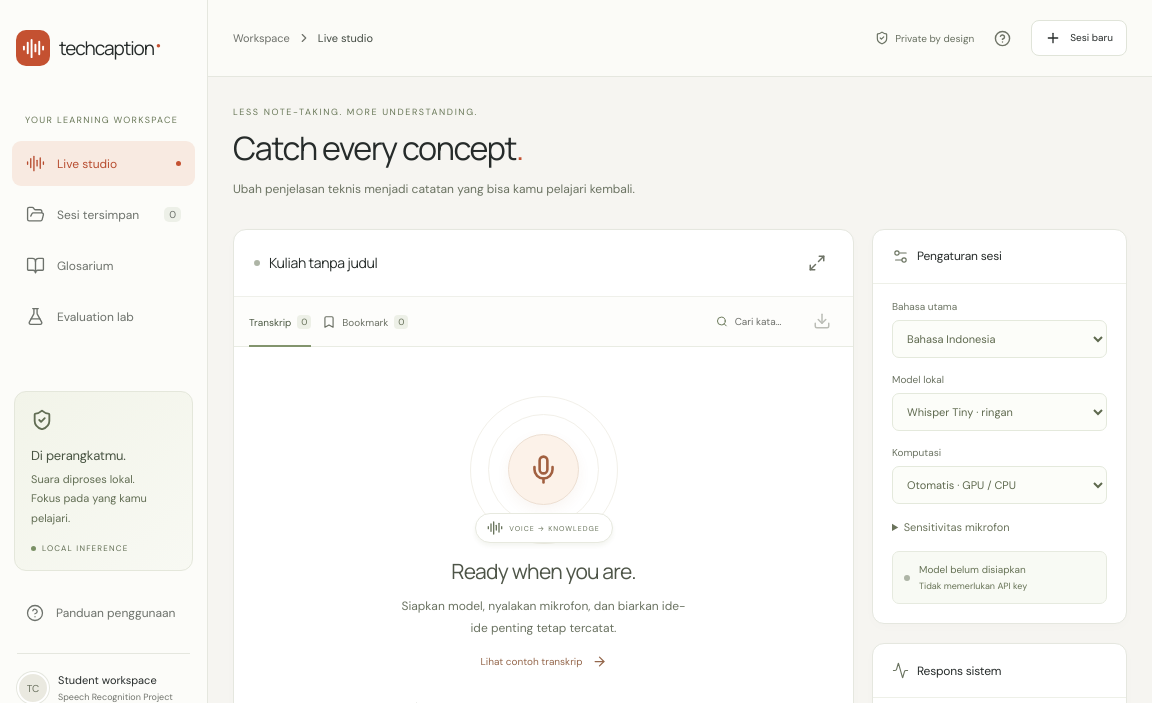
Test: student workflows (UI fixture, not real ASR) › adds a glossary entry and prevents duplicate terms
Click the button "Glosarium". click: (104, 266)
box: [12,243,195,288]
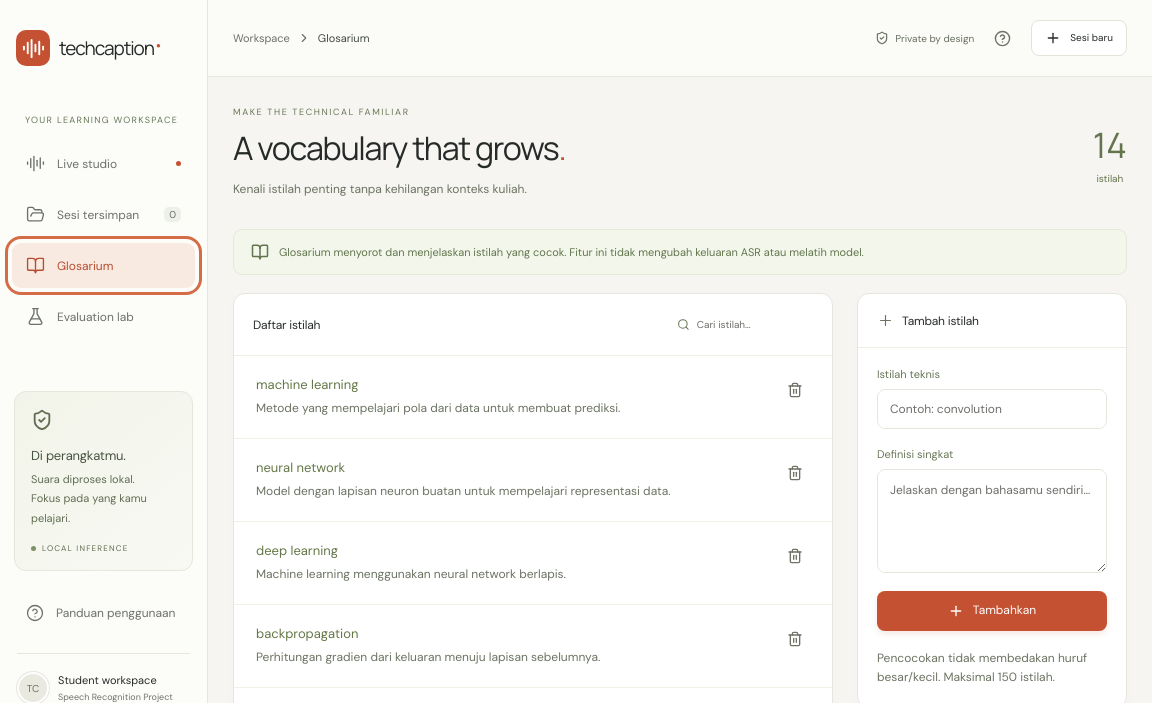
Type "vector database" into the field labelled "Istilah teknis". click: (992, 409)
box: [877,389,1107,429]
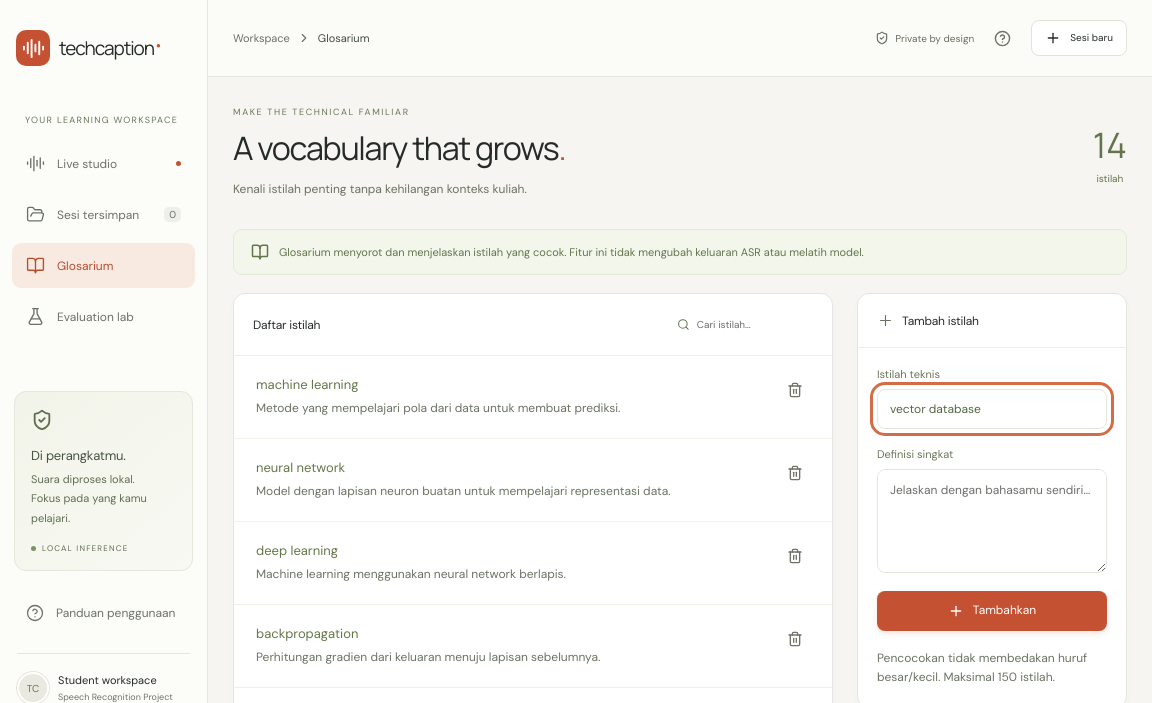
Type "Penyimpanan vektor" into the text box labelled "Definisi singkat". click: (992, 521)
box: [877,469,1107,573]
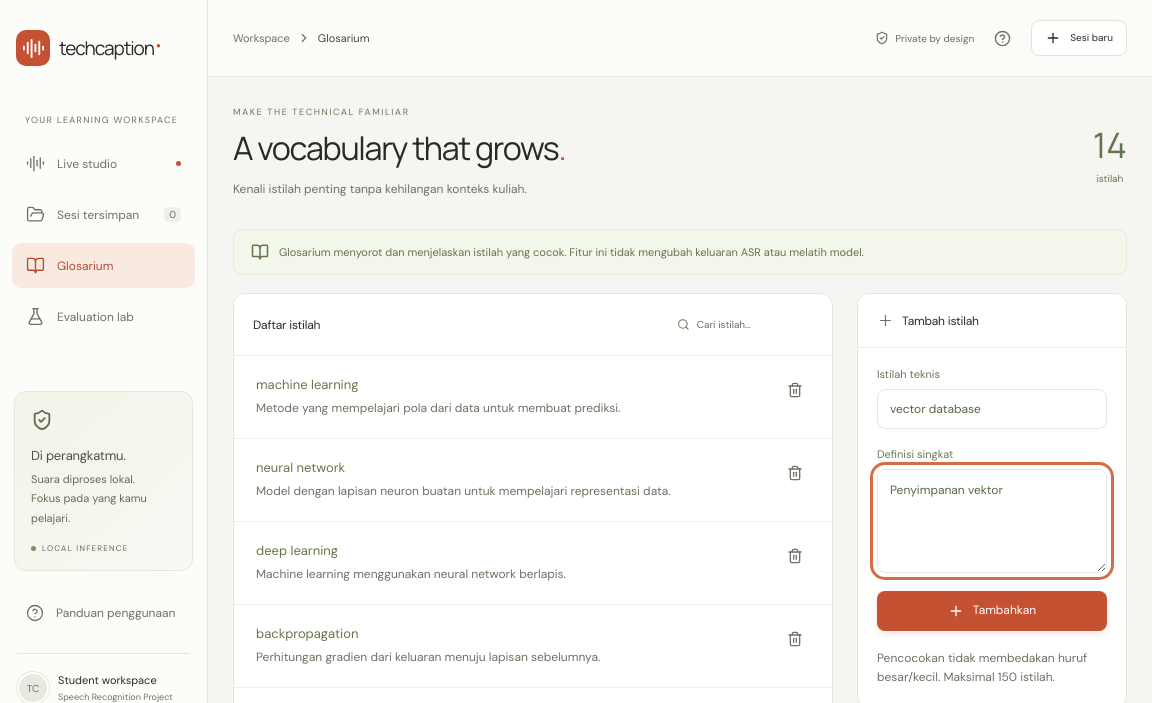
Click the button "Tambahkan". click: (992, 611)
box: [877,591,1107,631]
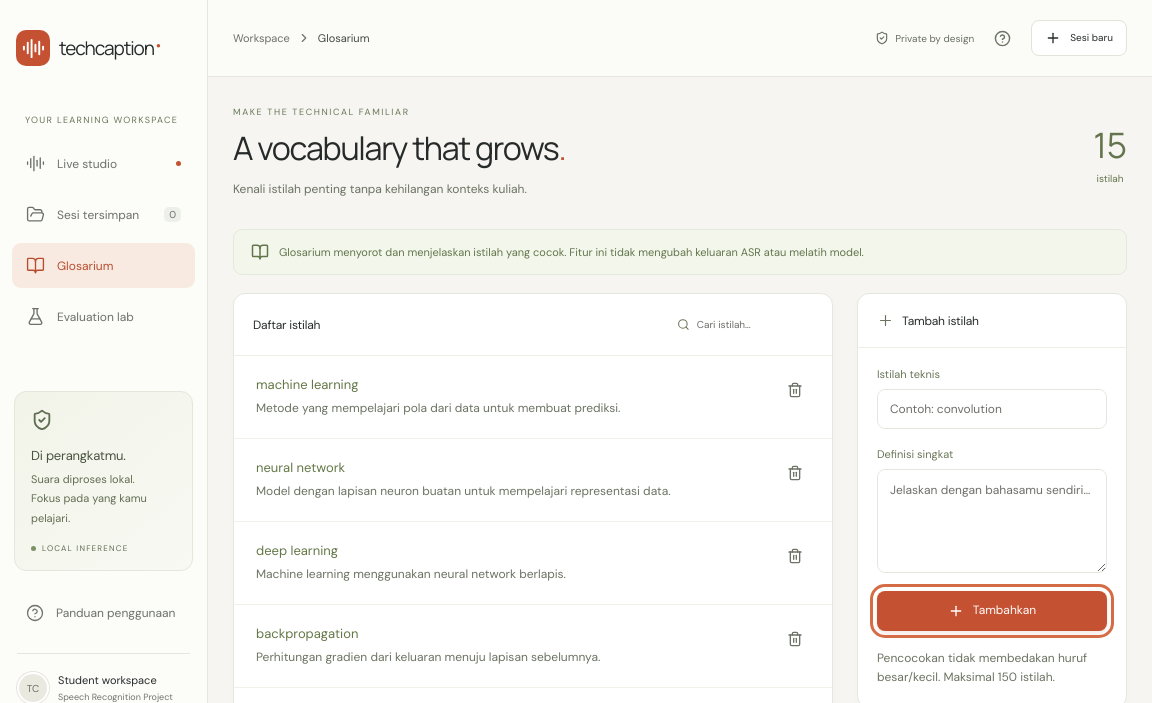
Type "VECTOR DATABASE" into the field labelled "Istilah teknis". click: (992, 409)
box: [877,389,1107,429]
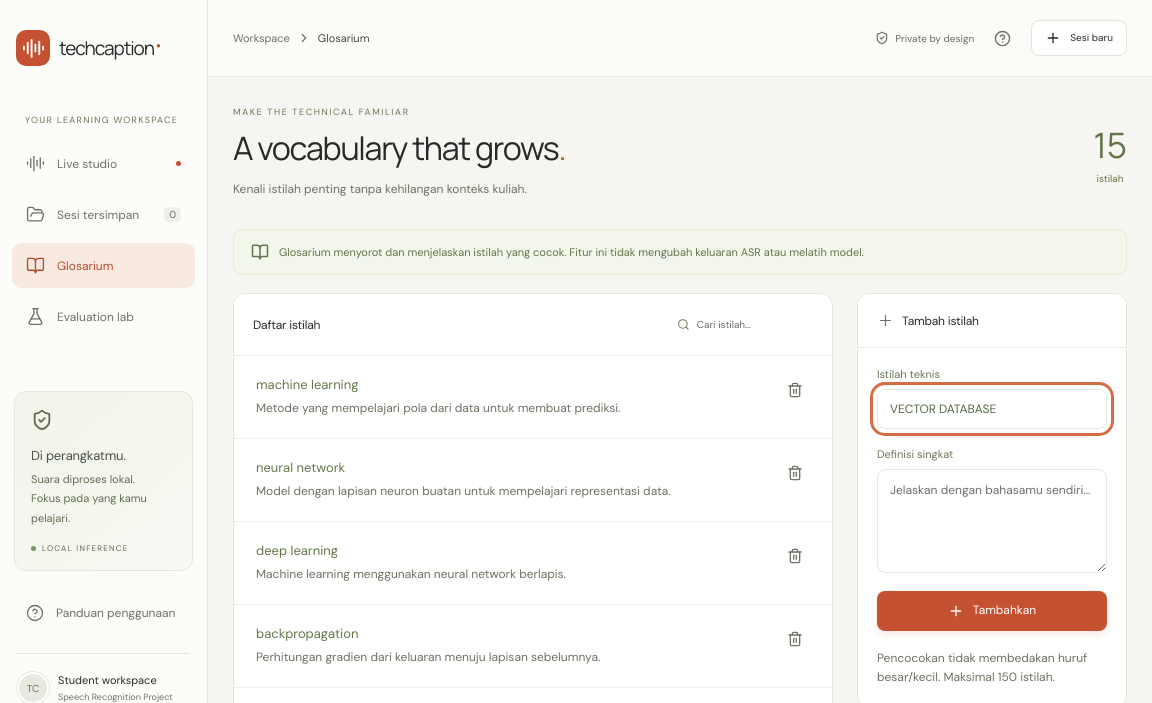
Click the button "Tambahkan". click: (992, 611)
box: [877,591,1107,631]
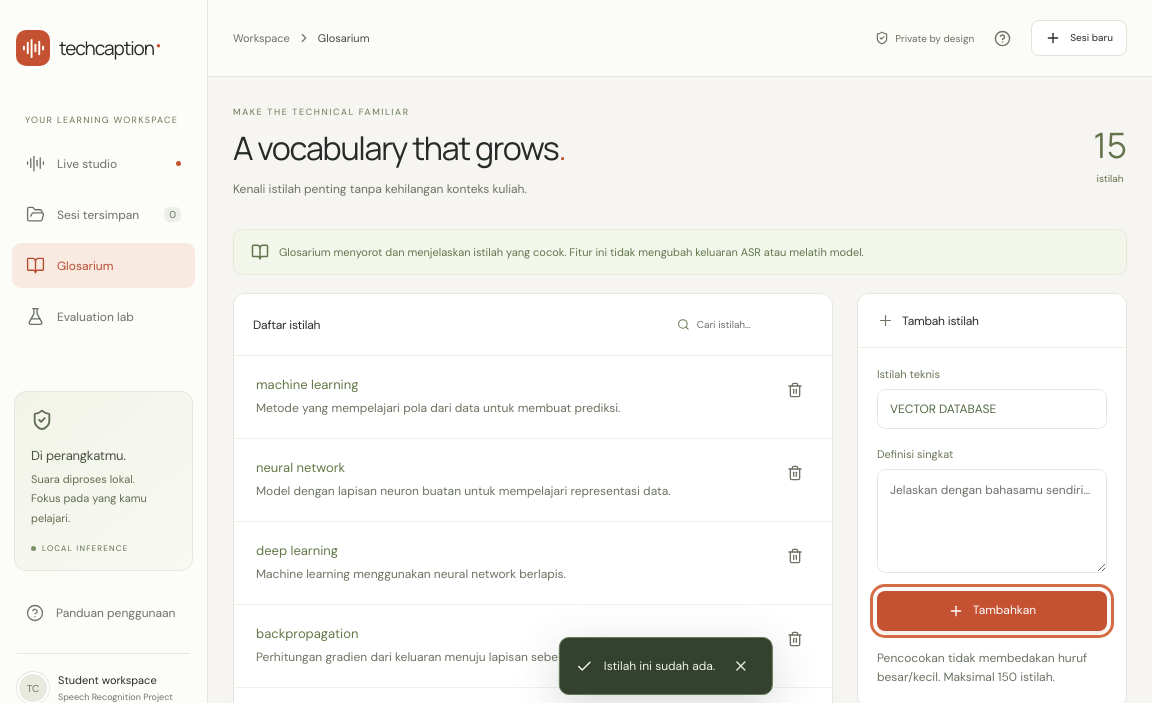
Check: the text "Istilah ini sudah ada." is shown, box [604,658,715,674]
